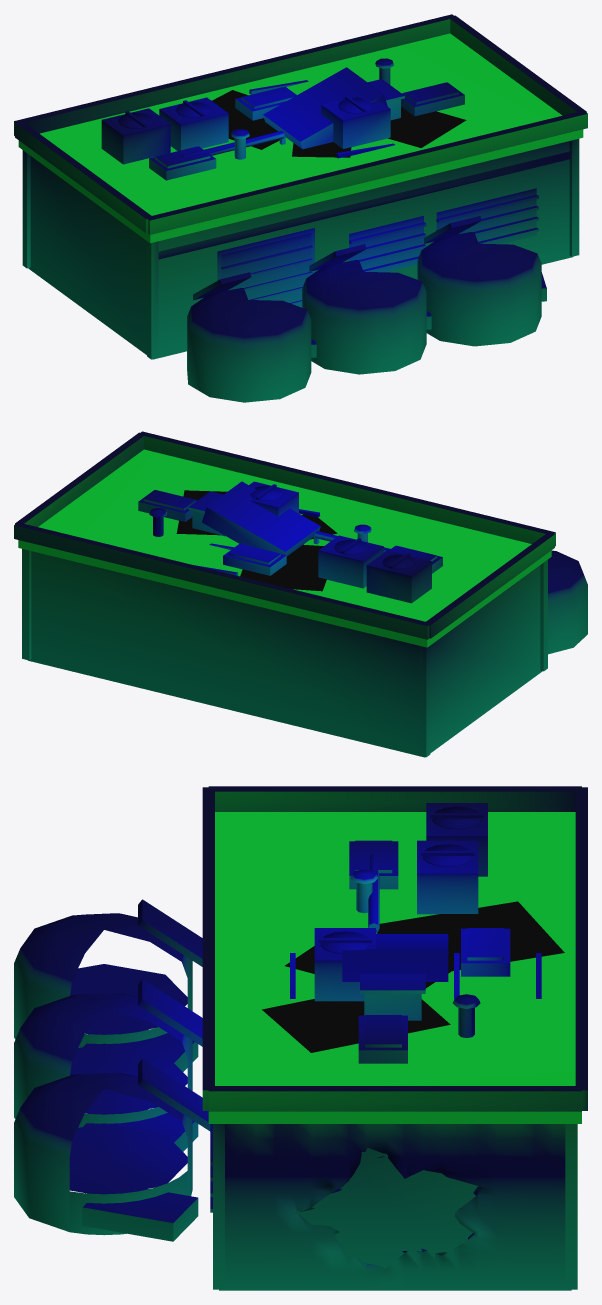
File: wasteprocessor_damaged.glb
3 views of the same model, one above another, from view 1: azimuth 30°, elevation 25°; view 2: azimuth 150°, elevation 25°; view 3: azimuth 270°, elevation 25° (orthographic). The views are drawn at different scales.
Parts seen in each view (by area): view 1: lod0; view 2: lod0; view 3: lod0.
Part boxes in pixels (x1,y1,x2,y2): lod0: [14, 14, 587, 402]; lod0: [14, 431, 587, 757]; lod0: [14, 786, 587, 1290].
Size of what is drawn, in the model's own units: 17.6 by 6.35 by 14.
